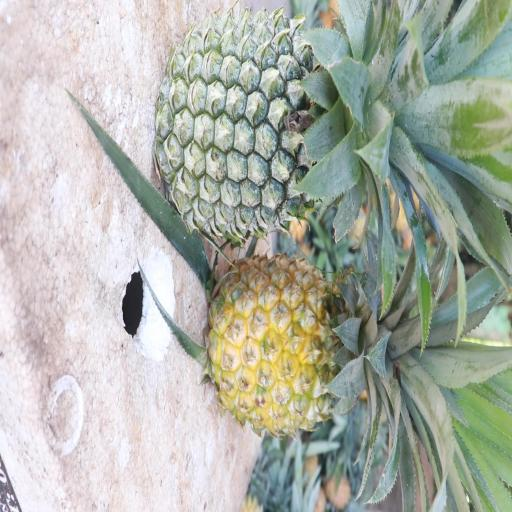Pineapple - v8 v1: (208, 235, 476, 511)
